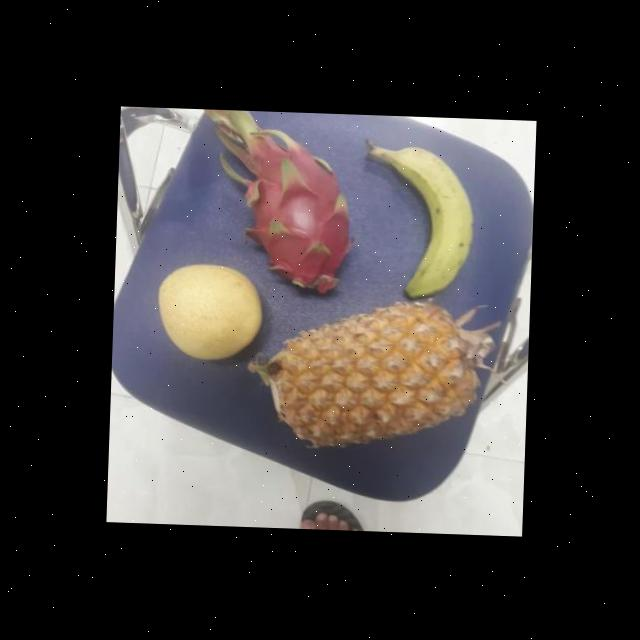banana: (370, 144, 480, 296)
pear: (154, 256, 263, 365)
pineapple: (262, 292, 494, 450)
pitaya: (225, 138, 365, 293)
